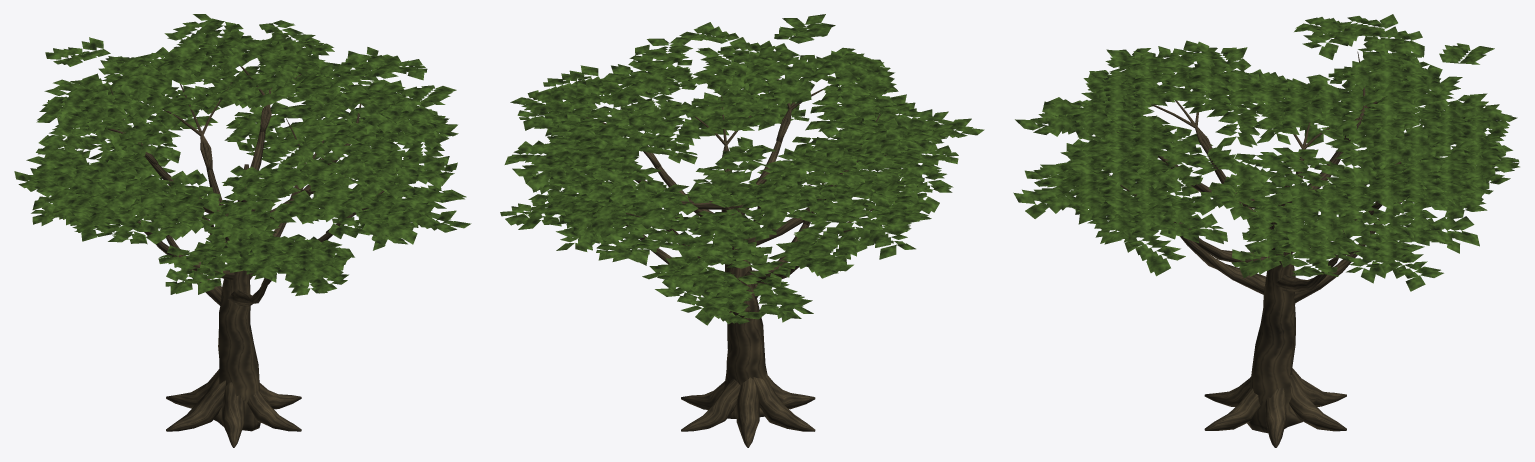
Rendered from tree_wide.glb.
The picture shows the model from 3 angles, left to right: view 1: azimuth 30°, elevation 25°; view 2: azimuth 150°, elevation 25°; view 3: azimuth 270°, elevation 25°; orthographic projection. The views are drawn at different scales.
Visible parts, largest first — view 1: tree_wideMesh; view 2: tree_wideMesh; view 3: tree_wideMesh.
Part boxes in pixels (bbox=[...]): tree_wideMesh: bbox=[14, 14, 471, 447]; tree_wideMesh: bbox=[500, 14, 984, 447]; tree_wideMesh: bbox=[1013, 14, 1519, 447].
Bounding box in the file's own units: 10.09 × 7.86 × 10.57.
2 materials, 2 textured.
